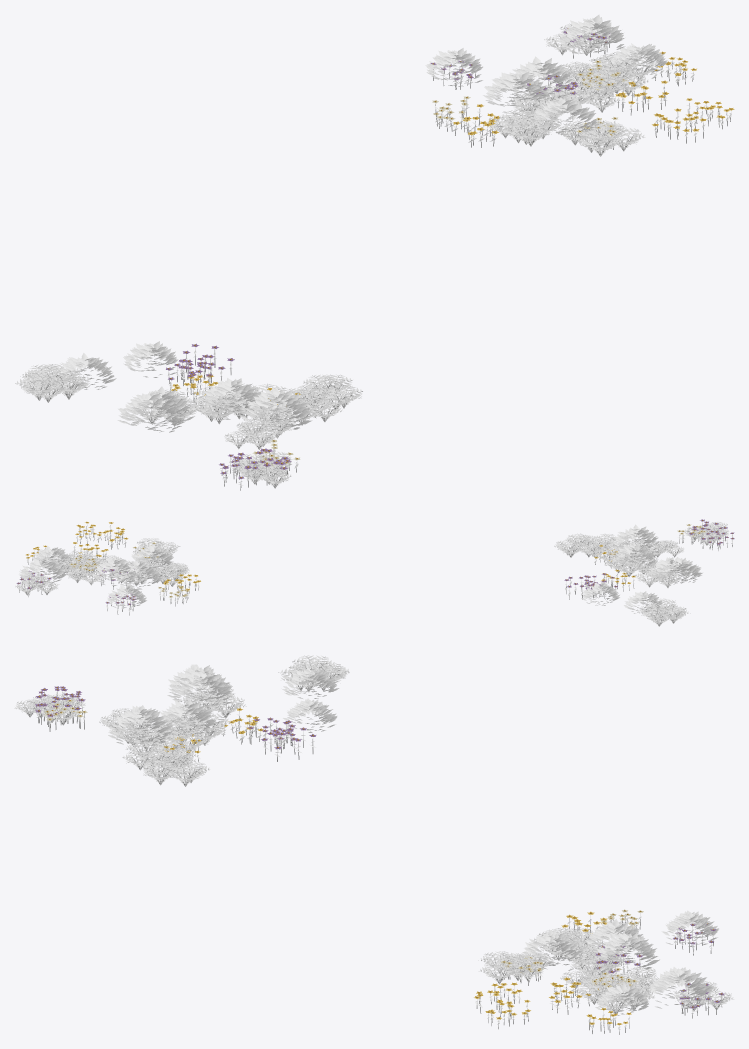
The model's file is SM_NW_Nature_1_2_Flora.fbx.
3 views of the same model, one above another, from view 1: azimuth 30°, elevation 25°; view 2: azimuth 150°, elevation 25°; view 3: azimuth 270°, elevation 25° (orthographic). The views are drawn at different scales.
Visible parts, largest first — view 1: SM_NW_Nature_1_2_Flora; view 2: SM_NW_Nature_1_2_Flora; view 3: SM_NW_Nature_1_2_Flora.
Boxes of the visible parts, x1=… form: SM_NW_Nature_1_2_Flora: x1=15, y1=14, x2=734, y2=490; SM_NW_Nature_1_2_Flora: x1=15, y1=519, x2=734, y2=626; SM_NW_Nature_1_2_Flora: x1=15, y1=655, x2=734, y2=1034.
Bounding box in the file's own units: 2505 × 2015 × 170.
